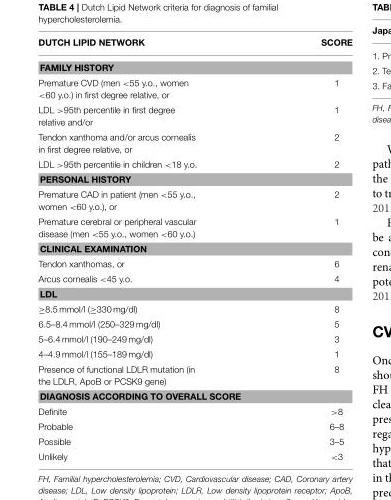table: (37, 37, 351, 461)
table column: (37, 37, 258, 461), (258, 37, 351, 461)
table column header: (37, 37, 351, 54)
table projected row header: (37, 54, 351, 75), (37, 171, 351, 186), (37, 241, 351, 256), (37, 286, 351, 301), (37, 388, 351, 403)
table row: (37, 213, 351, 241), (37, 75, 351, 102), (37, 102, 351, 129), (37, 129, 351, 156), (37, 186, 351, 213), (37, 361, 351, 388), (37, 54, 351, 75), (37, 37, 351, 54), (37, 433, 351, 449), (37, 156, 351, 171), (37, 171, 351, 186), (37, 241, 351, 256), (37, 256, 351, 271), (37, 271, 351, 286), (37, 286, 351, 301), (37, 301, 351, 316), (37, 316, 351, 331), (37, 331, 351, 346), (37, 346, 351, 361), (37, 388, 351, 403), (37, 403, 351, 418), (37, 418, 351, 433), (37, 449, 351, 461)
